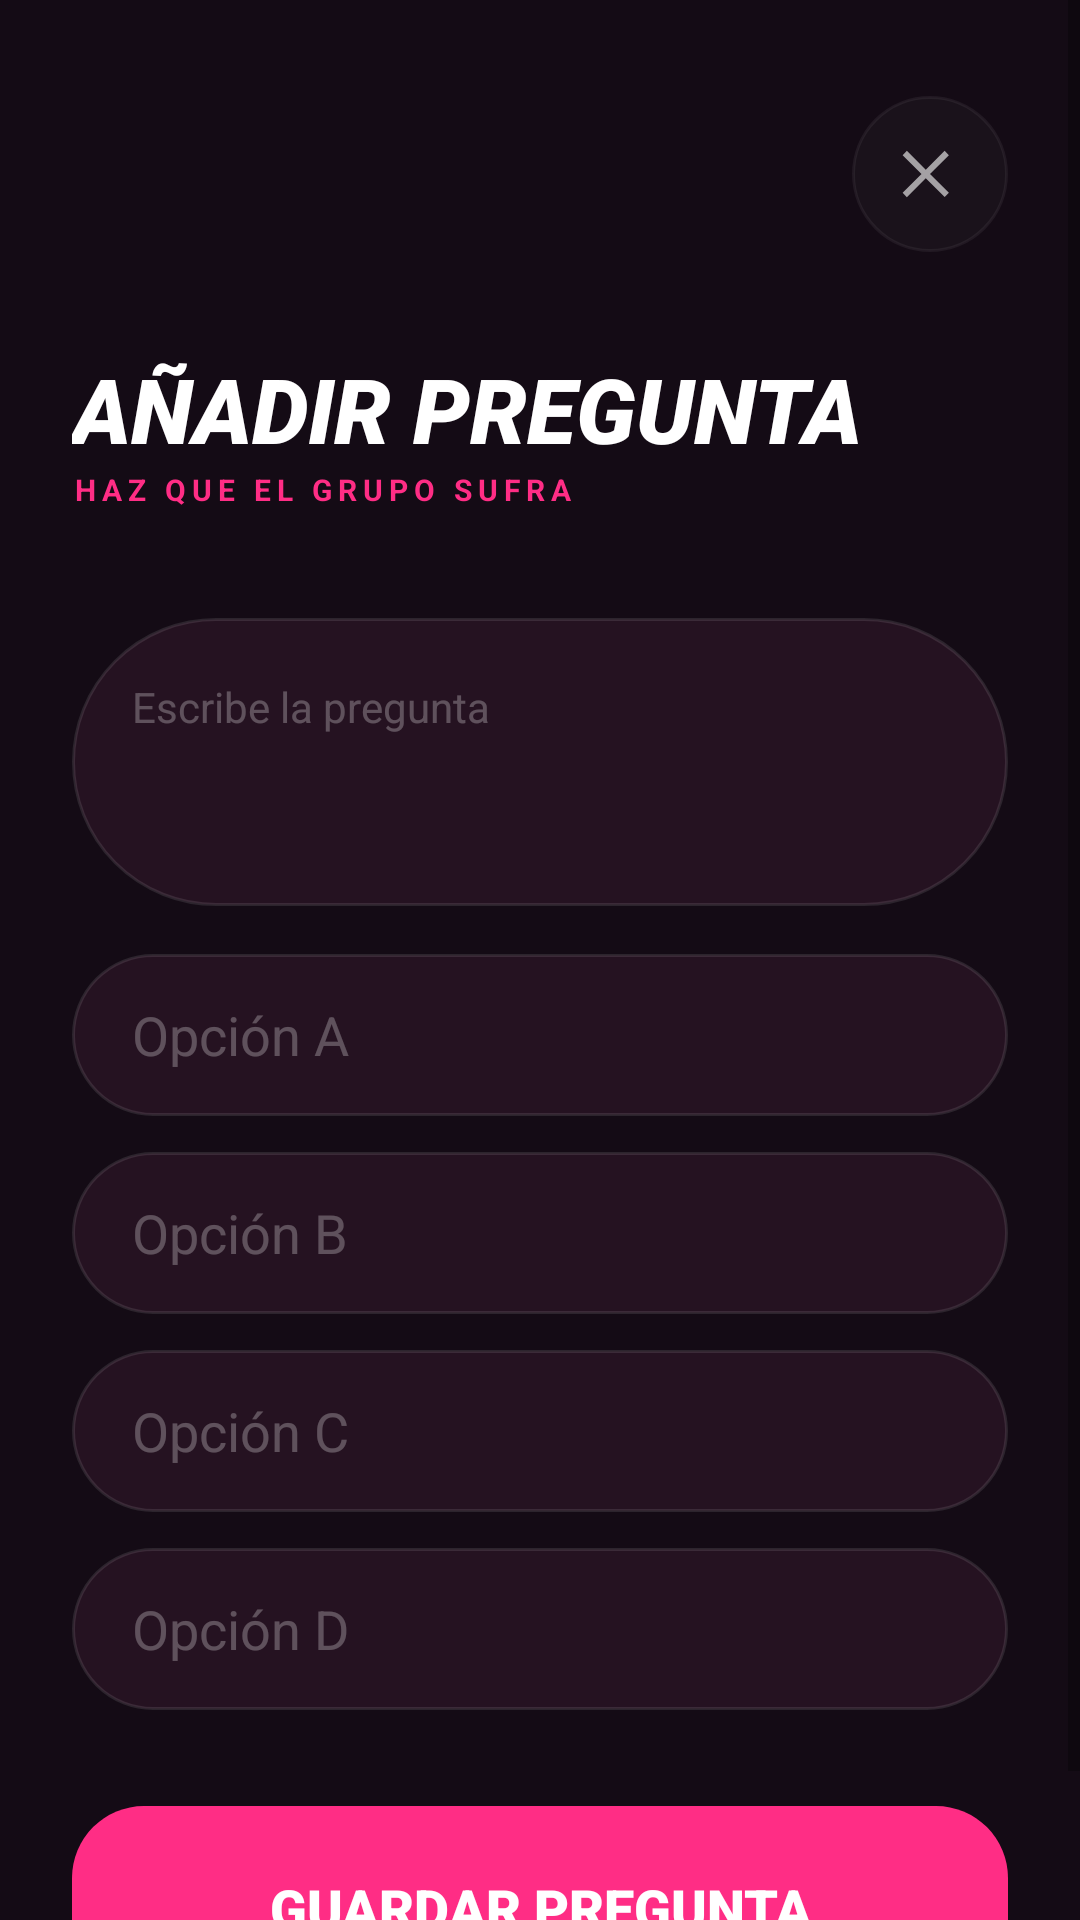

Icons on this 1080×1920 Android screen, each with the point to tap as point (x, y):
Cerrar: point (925, 174)
